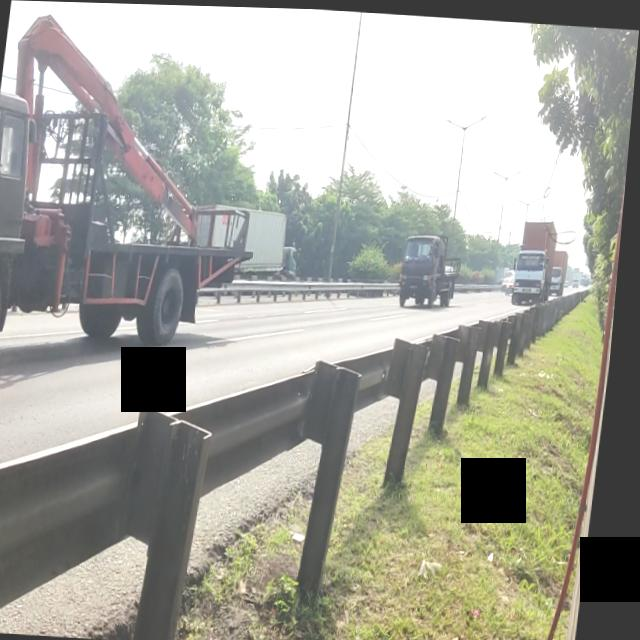Golongan II: (400, 224, 469, 313)
